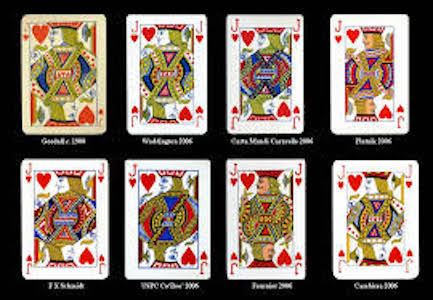JackOfHearts: (17, 156, 113, 284), (121, 156, 214, 285), (326, 159, 423, 282), (18, 12, 111, 137), (324, 9, 413, 138), (121, 11, 212, 137), (221, 156, 309, 284), (223, 11, 308, 136)
